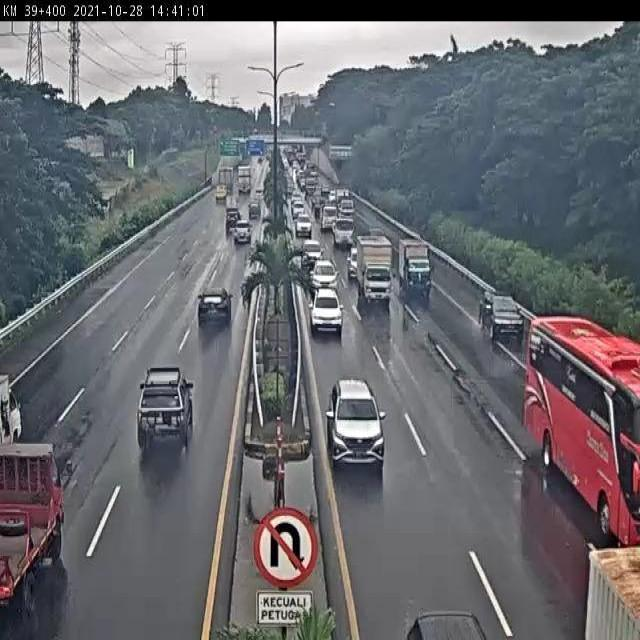bus-l-: (525, 319, 640, 556)
car: (325, 379, 387, 472), (135, 365, 195, 451), (478, 288, 525, 341), (309, 291, 345, 336), (196, 284, 234, 325), (309, 258, 341, 294)
truck-m-: (357, 235, 392, 304)
truck-s-: (397, 238, 433, 298)
